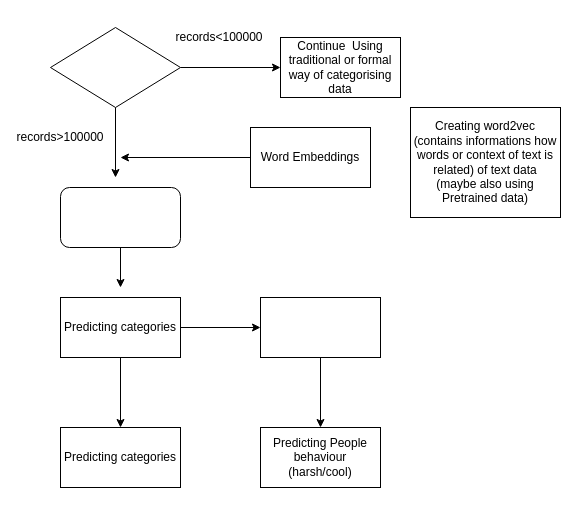
This 578x505 diagram has some shape labels left out. Each missing label, with the centre of its shape:
"Data Collection" belongs at [115,67].
"Sentiment Analysis" belongs at [320,327].
"Training machine learning model" belongs at [120,217].
